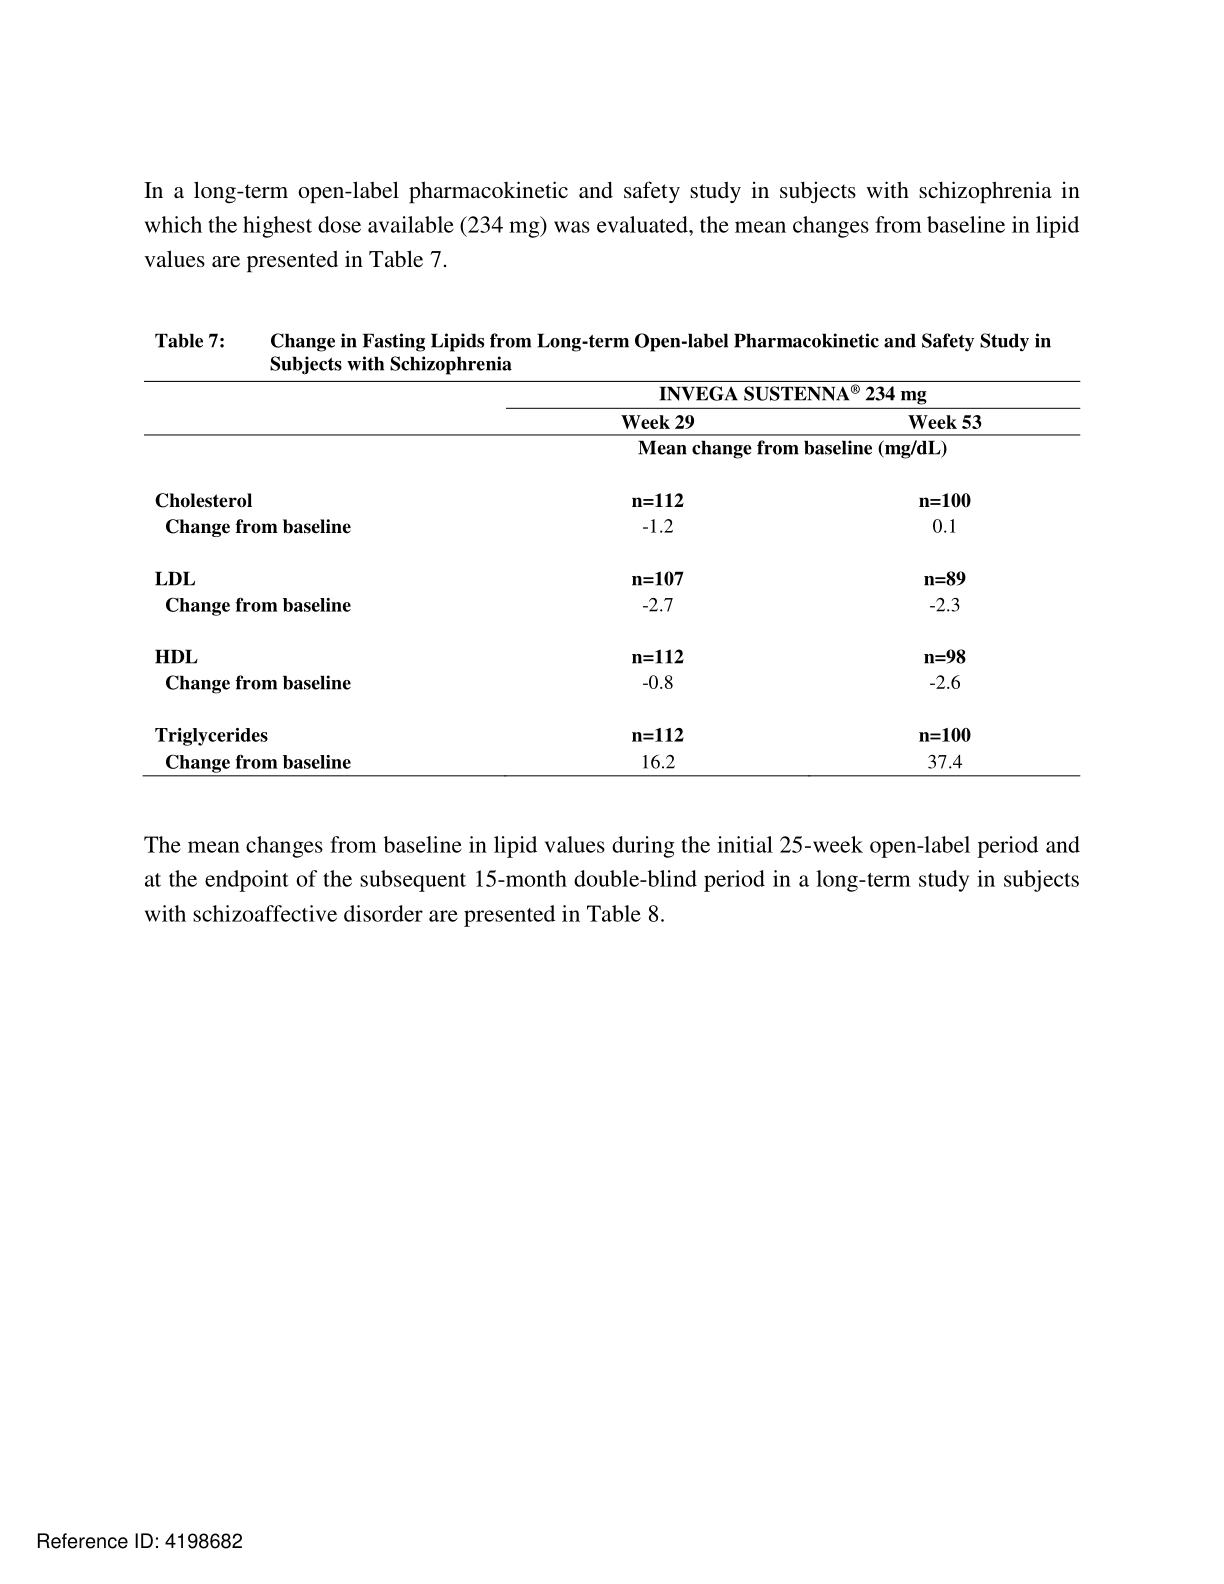partial_lined_merged_cells: (143, 378, 1083, 780)
